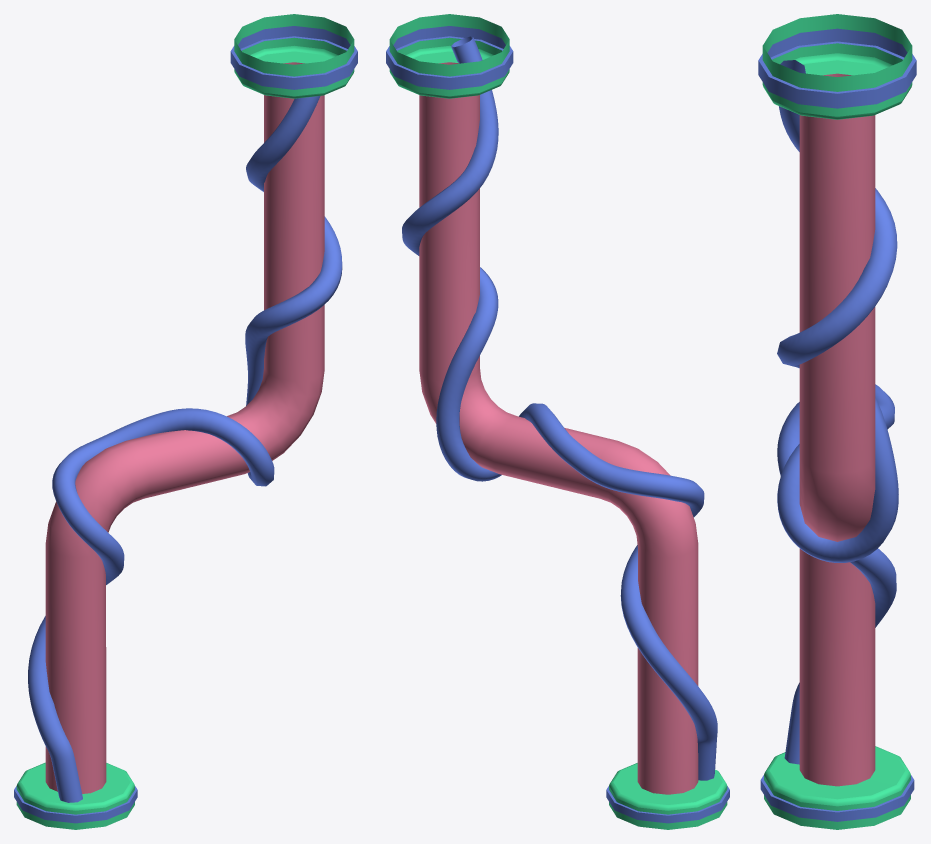
File: LevelRework_GiantTube2.fbx
The picture shows the model from 3 angles, left to right: view 1: azimuth 30°, elevation 25°; view 2: azimuth 150°, elevation 25°; view 3: azimuth 270°, elevation 25°; orthographic projection. The views are drawn at different scales.
Visible parts, largest first — view 1: GiantTube2.001, GiantTube2_SubTube.001; view 2: GiantTube2.001, GiantTube2_SubTube.001; view 3: GiantTube2.001, GiantTube2_SubTube.001.
Part boxes in pixels (bbox=[...]): GiantTube2.001: bbox=[14, 14, 357, 829]; GiantTube2_SubTube.001: bbox=[28, 96, 342, 802]; GiantTube2.001: bbox=[386, 14, 729, 829]; GiantTube2_SubTube.001: bbox=[402, 36, 717, 780]; GiantTube2.001: bbox=[758, 14, 916, 829]; GiantTube2_SubTube.001: bbox=[777, 60, 898, 764].
Bounding box in the file's own units: 817 × 1700 × 275.
